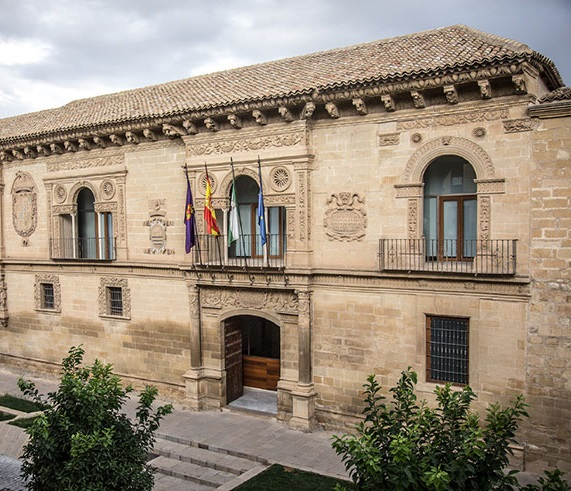arco-medio-punto: (415, 150, 489, 195)
serliana: (194, 166, 293, 268), (51, 177, 123, 263)
